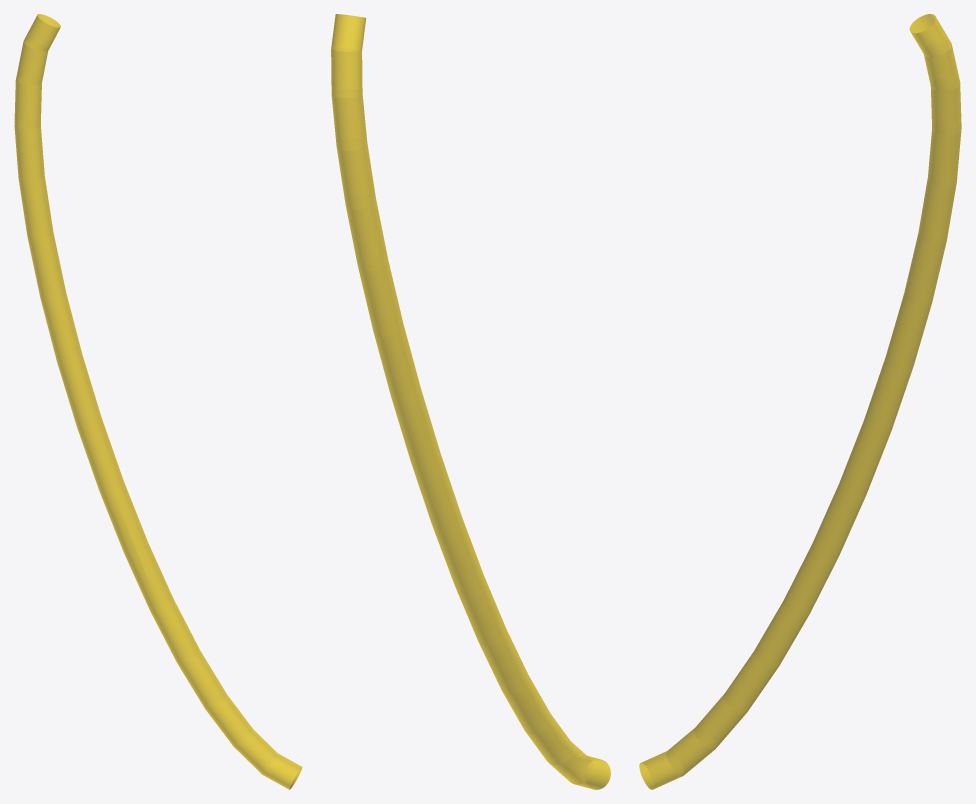
The model's file is Event_17758602_track_134.fbx.
The picture shows the model from 3 angles, left to right: view 1: azimuth 90°, elevation 25°; view 2: azimuth 150°, elevation 25°; view 3: azimuth 270°, elevation 25°; orthographic projection. The views are drawn at different scales.
Visible parts, largest first — view 1: Model; view 2: Model; view 3: Model.
Boxes of the visible parts, box(x1,y1,x2,y2) form: Model: box(14, 14, 302, 789); Model: box(331, 14, 610, 789); Model: box(639, 14, 961, 789).
Size of the model in its own units: 0.1915 by 1.22 by 0.436.
